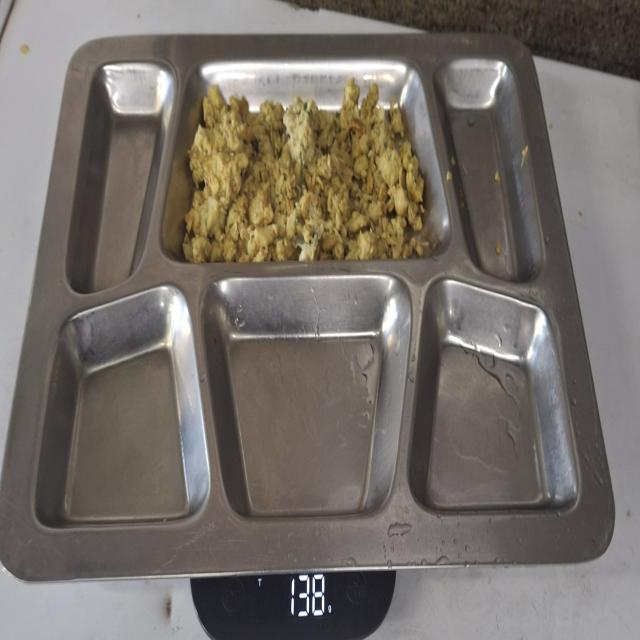Egg Bhurji: (182, 73, 434, 267)
